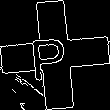P_N: (34, 28, 76, 82)
